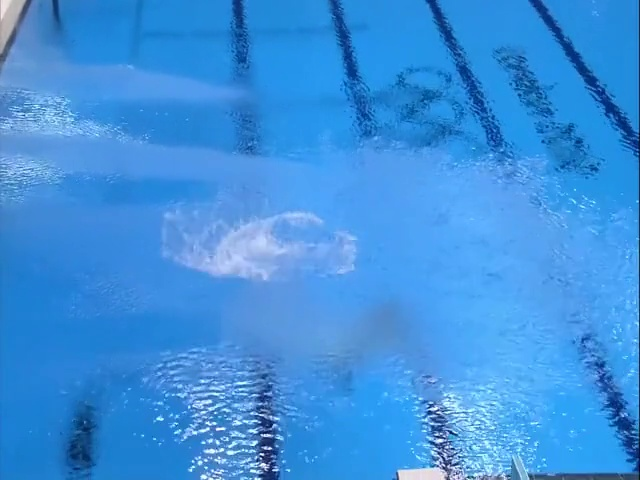splash: (207, 218, 285, 282)
